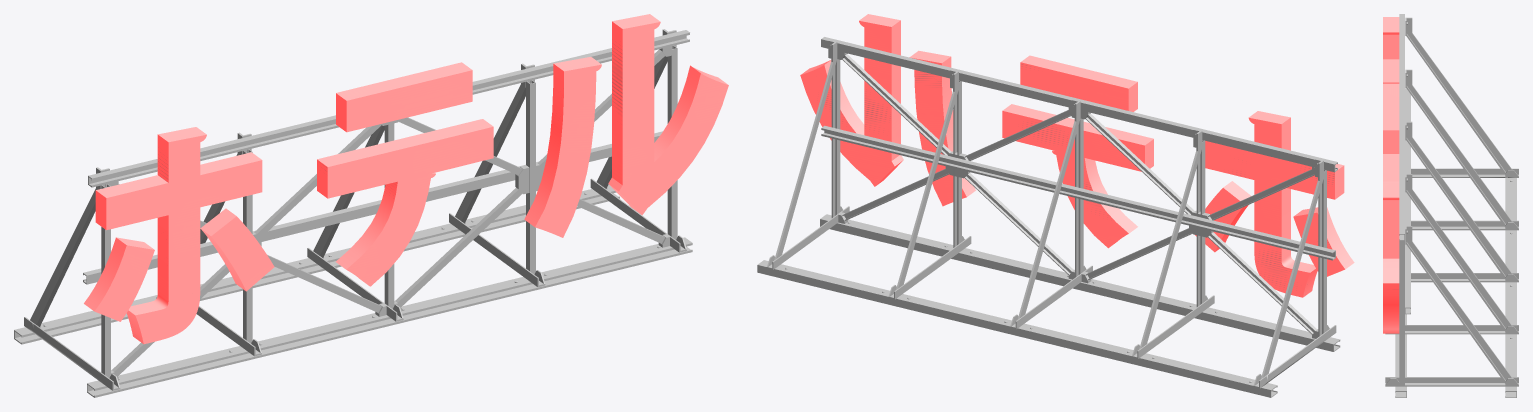
Rendered from KB3D_CBP_NeonSign_L.fbx.
3 renders of one model, left to right at view 1: azimuth 30°, elevation 25°; view 2: azimuth 150°, elevation 25°; view 3: azimuth 270°, elevation 25°, orthographic. The views are drawn at different scales.
Parts seen in each view (by area): view 1: KB3D_CBP_NeonSign_L_Main; view 2: KB3D_CBP_NeonSign_L_Main; view 3: KB3D_CBP_NeonSign_L_Main.
Part boxes in pixels (left/top/right/bottom): KB3D_CBP_NeonSign_L_Main: left=14, top=14, right=728, bottom=397; KB3D_CBP_NeonSign_L_Main: left=757, top=14, right=1354, bottom=397; KB3D_CBP_NeonSign_L_Main: left=1383, top=14, right=1518, bottom=397.
Bounding box in the file's own units: 887 × 331 × 218.
